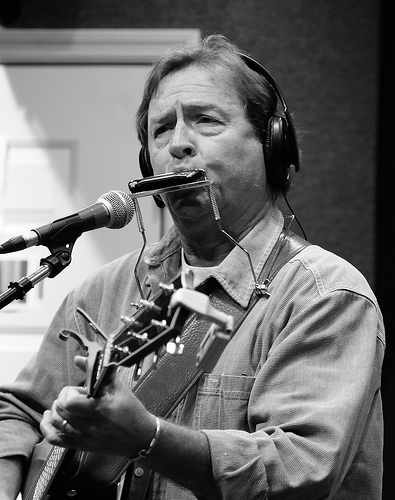guitar: (27, 270, 200, 500)
